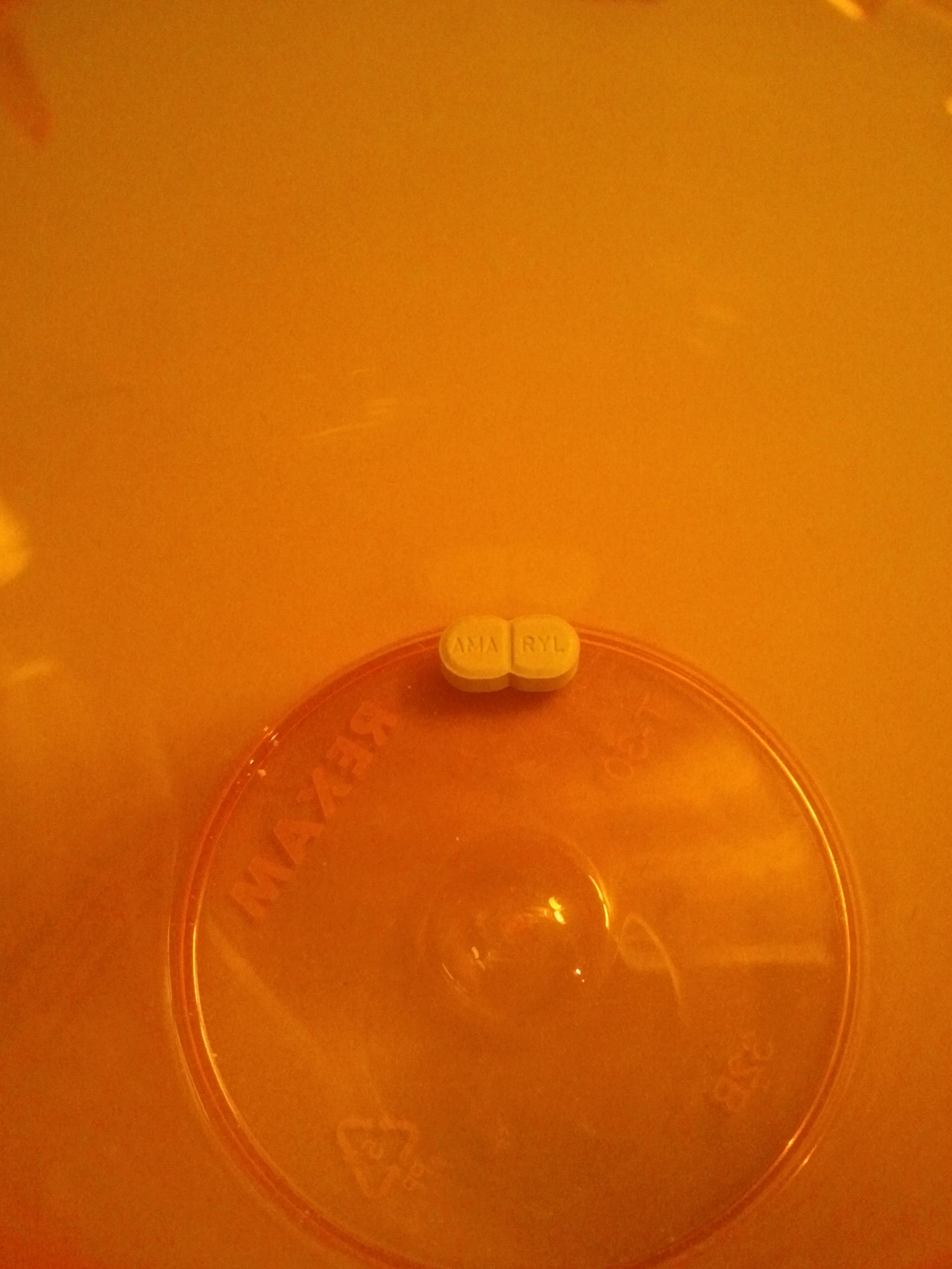Pill: (419, 607, 588, 706)
